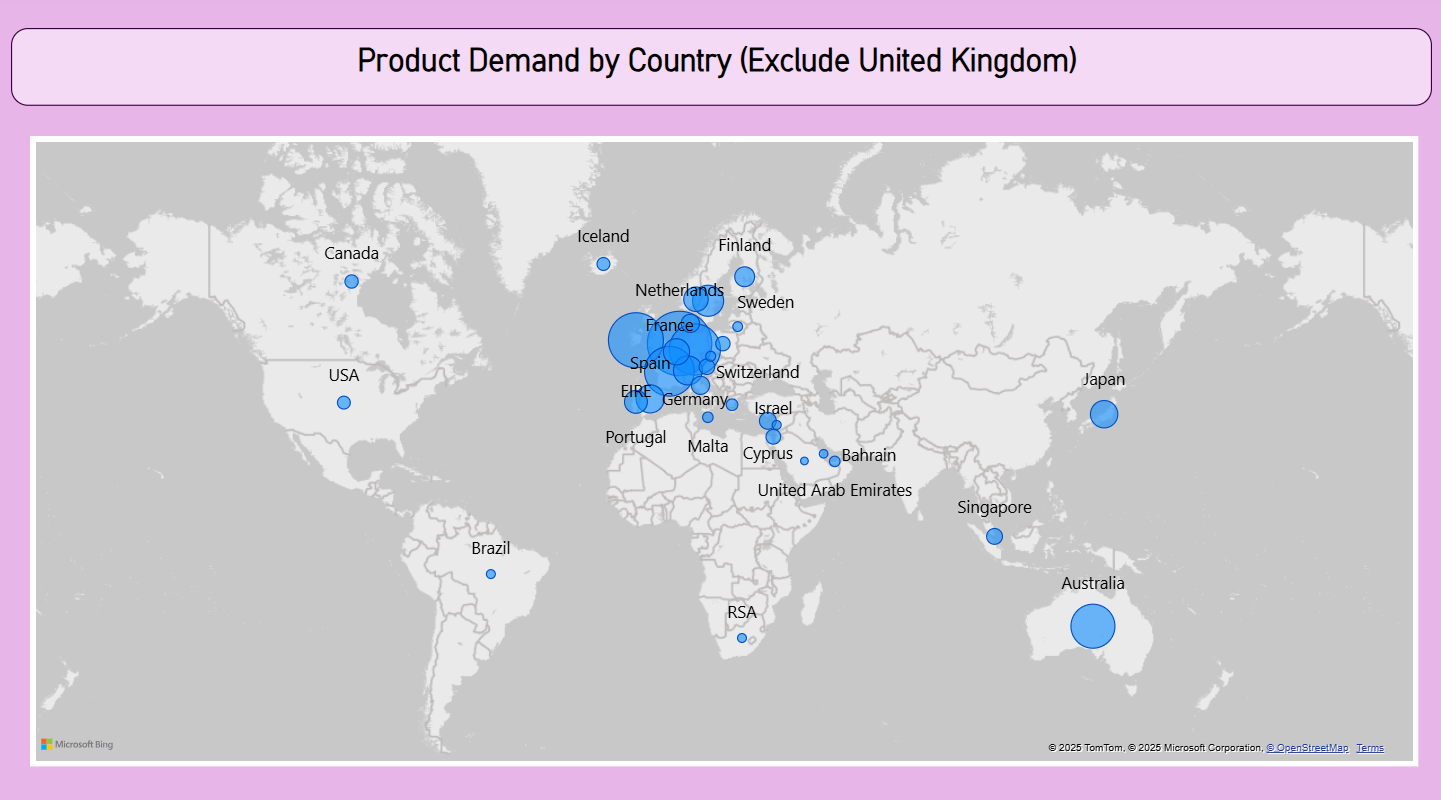

This screenshot's page, from the dashboard's own definition file:
{"tool":"powerbi","page":{"name":" Task 4","canvas":[1280,720],"ordinal":3},"visuals":[{"type":"textbox","box":[10.7,28.2,1259.6,69.1],"z":0},{"type":"map","fields":{"Category":["Online Retail.Country"],"Size":["Sum(Online Retail.Quantity)"]},"box":[27.5,124.1,1230.7,558.6],"z":1000}]}

Visuals, with their boxes in screenshot pixels (x1, y1, x2, y2), scaled from the page's 1280x720 canvas onto the 1441x800 screenshot:
textbox: rect(12, 31, 1430, 108)
map - Online Retail.Country x Sum(Online Retail.Quantity): rect(31, 138, 1416, 759)
